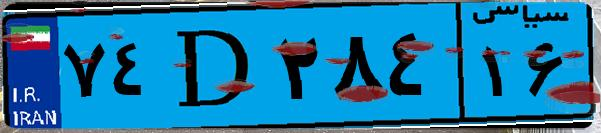1: (475, 38, 525, 113)
2: (270, 28, 330, 110)
4: (385, 28, 445, 110), (110, 28, 158, 98)
6: (525, 38, 570, 115)
7: (57, 26, 110, 100)
8: (330, 28, 385, 110)
D: (158, 12, 270, 120)
